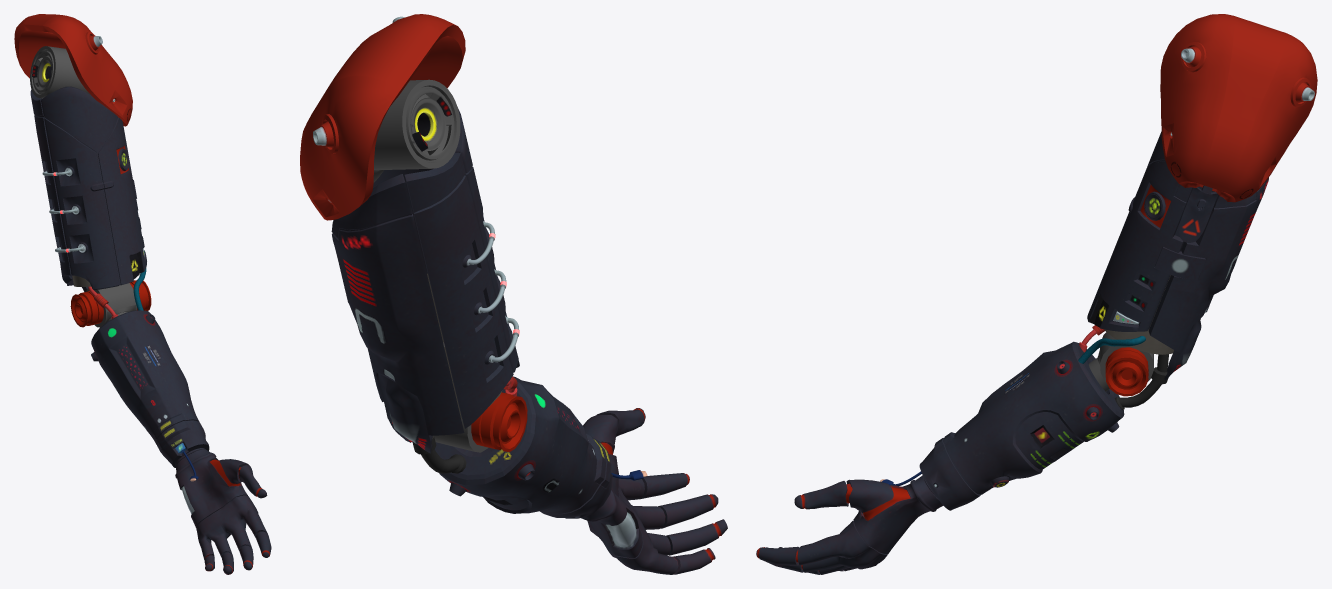
The model's file is l-x3-b_bionic_arm.glb.
The picture shows the model from 3 angles, left to right: view 1: azimuth 30°, elevation 25°; view 2: azimuth 150°, elevation 25°; view 3: azimuth 270°, elevation 25°; orthographic projection. The views are drawn at different scales.
Visible parts, largest first — view 1: Object_2, Object_17, Object_12, Object_3, Object_14, Object_6, Object_16, Object_10; view 2: Object_7, Object_3, Object_6, Object_17, Object_12, Object_14, Object_2, Object_16, Object_9, Object_21, Object_10; view 3: Object_3, Object_17, Object_2, Object_12, Object_7, Object_16, Object_8, Object_11, Object_21, Object_10, Object_15, Object_9.
Part boxes in pixels (bbox=[...]): Object_2: bbox=[41, 86, 146, 290]; Object_17: bbox=[91, 310, 209, 467]; Object_12: bbox=[175, 448, 271, 574]; Object_3: bbox=[14, 14, 132, 126]; Object_14: bbox=[30, 46, 90, 98]; Object_6: bbox=[30, 89, 71, 283]; Object_16: bbox=[70, 280, 151, 327]; Object_10: bbox=[86, 283, 136, 327]; Object_7: bbox=[331, 174, 464, 435]; Object_3: bbox=[300, 14, 465, 220]; Object_6: bbox=[404, 152, 513, 428]; Object_17: bbox=[434, 376, 612, 518]; Object_12: bbox=[581, 408, 727, 574]; Object_14: bbox=[373, 79, 460, 182]; Object_2: bbox=[373, 107, 519, 372]; Object_16: bbox=[471, 392, 527, 452]; Object_9: bbox=[378, 369, 432, 453]; Object_21: bbox=[412, 435, 466, 473]; Object_10: bbox=[434, 342, 488, 452]; Object_3: bbox=[1160, 14, 1317, 202]; Object_17: bbox=[919, 341, 1124, 510]; Object_2: bbox=[1087, 131, 1192, 331]; Object_12: bbox=[756, 475, 943, 574]; Object_7: bbox=[1148, 177, 1268, 353]; Object_16: bbox=[1105, 347, 1148, 396]; Object_8: bbox=[1178, 185, 1218, 242]; Object_11: bbox=[1154, 247, 1205, 280]; Object_21: bbox=[1114, 354, 1168, 410]; Object_10: bbox=[1088, 281, 1168, 391]; Object_15: bbox=[1104, 275, 1173, 354]; Object_9: bbox=[1164, 308, 1207, 380].
Bounding box in the file's own units: 11.18 × 50.38 × 46.08.
20 materials, 20 textured.
